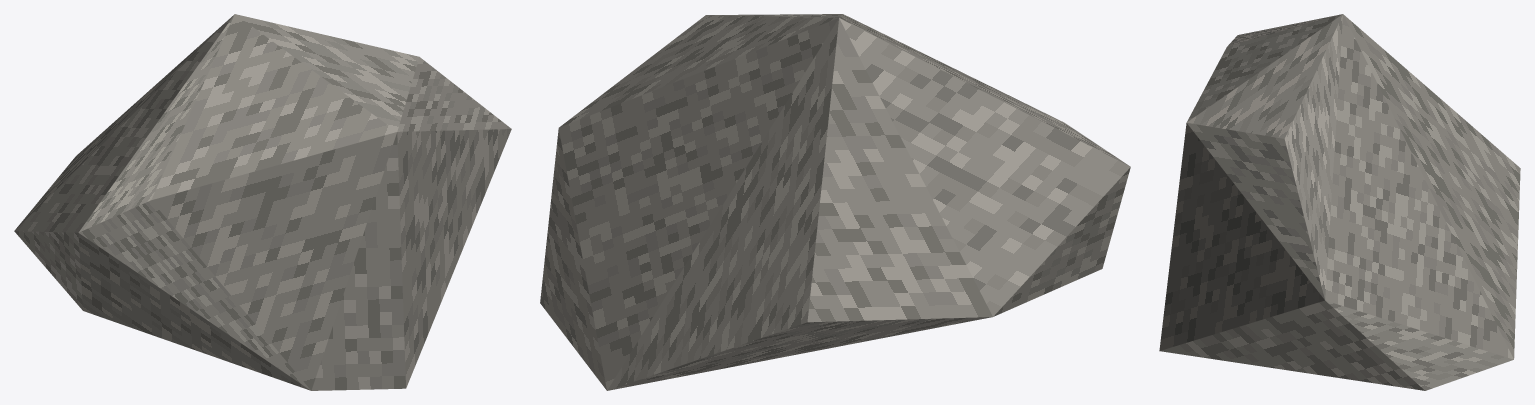
Rendered from rock.glb.
3 renders of one model, left to right at view 1: azimuth 30°, elevation 25°; view 2: azimuth 150°, elevation 25°; view 3: azimuth 270°, elevation 25°, orthographic. The views are drawn at different scales.
Visible parts, largest first — view 1: block_rock; view 2: block_rock; view 3: block_rock.
Boxes of the visible parts, x1=… form: block_rock: x1=14, y1=14, x2=511, y2=390; block_rock: x1=540, y1=14, x2=1130, y2=390; block_rock: x1=1159, y1=14, x2=1520, y2=390.
Size of the model in its own units: 0.0791 by 0.0506 by 0.0547.
Materials: 1 (1 with a texture image).
